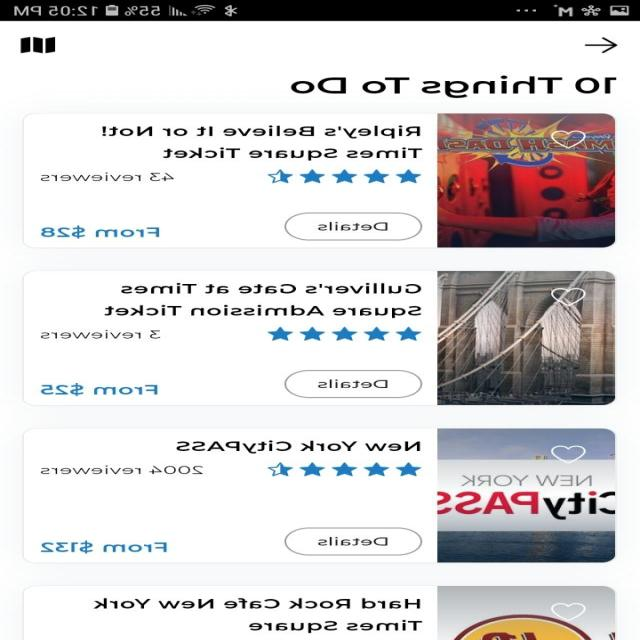Icon: (268, 326, 422, 341), (268, 169, 422, 184), (268, 462, 422, 476), (551, 287, 587, 306), (551, 602, 586, 620), (551, 445, 586, 463), (551, 130, 586, 148), (20, 36, 56, 53), (584, 37, 618, 53)
Image: (437, 428, 615, 562), (437, 270, 615, 404), (437, 113, 615, 247), (438, 586, 615, 640)
Text: (102, 125, 423, 161), (94, 598, 423, 633), (105, 282, 422, 318), (291, 75, 617, 98), (176, 439, 422, 454), (42, 540, 168, 553), (42, 382, 158, 396), (42, 225, 161, 238), (41, 465, 204, 474), (41, 172, 175, 181), (42, 330, 162, 339)
TextButton: (285, 527, 423, 556), (285, 212, 423, 241), (285, 370, 423, 398)
